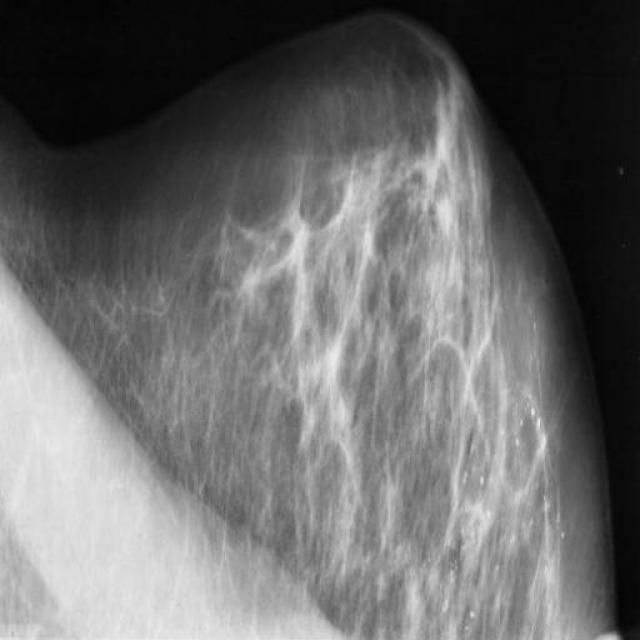cancer: (388, 56, 478, 252)
